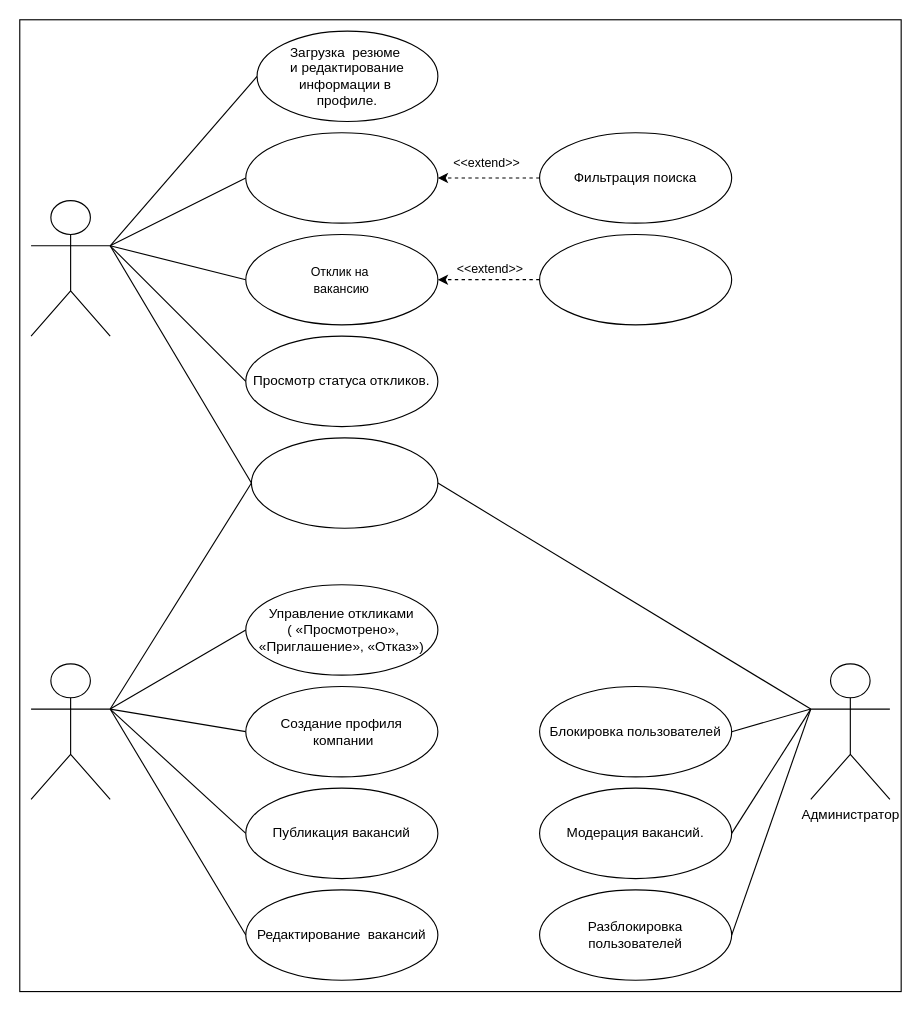
The diagram is 921 pixels wide and 1011 high, and some of its shapes have lost their labels. Each missing label, with the centre of its shape:
"Добавление сопроводительного письма" belongs at pixel 635 279.
"Поиск вакансий" belongs at pixel 341 177.
"Регистрация" belongs at pixel 344 482.
"Рекрутер" belongs at pixel 70 731.
"Соискатель" belongs at pixel 70 267.
